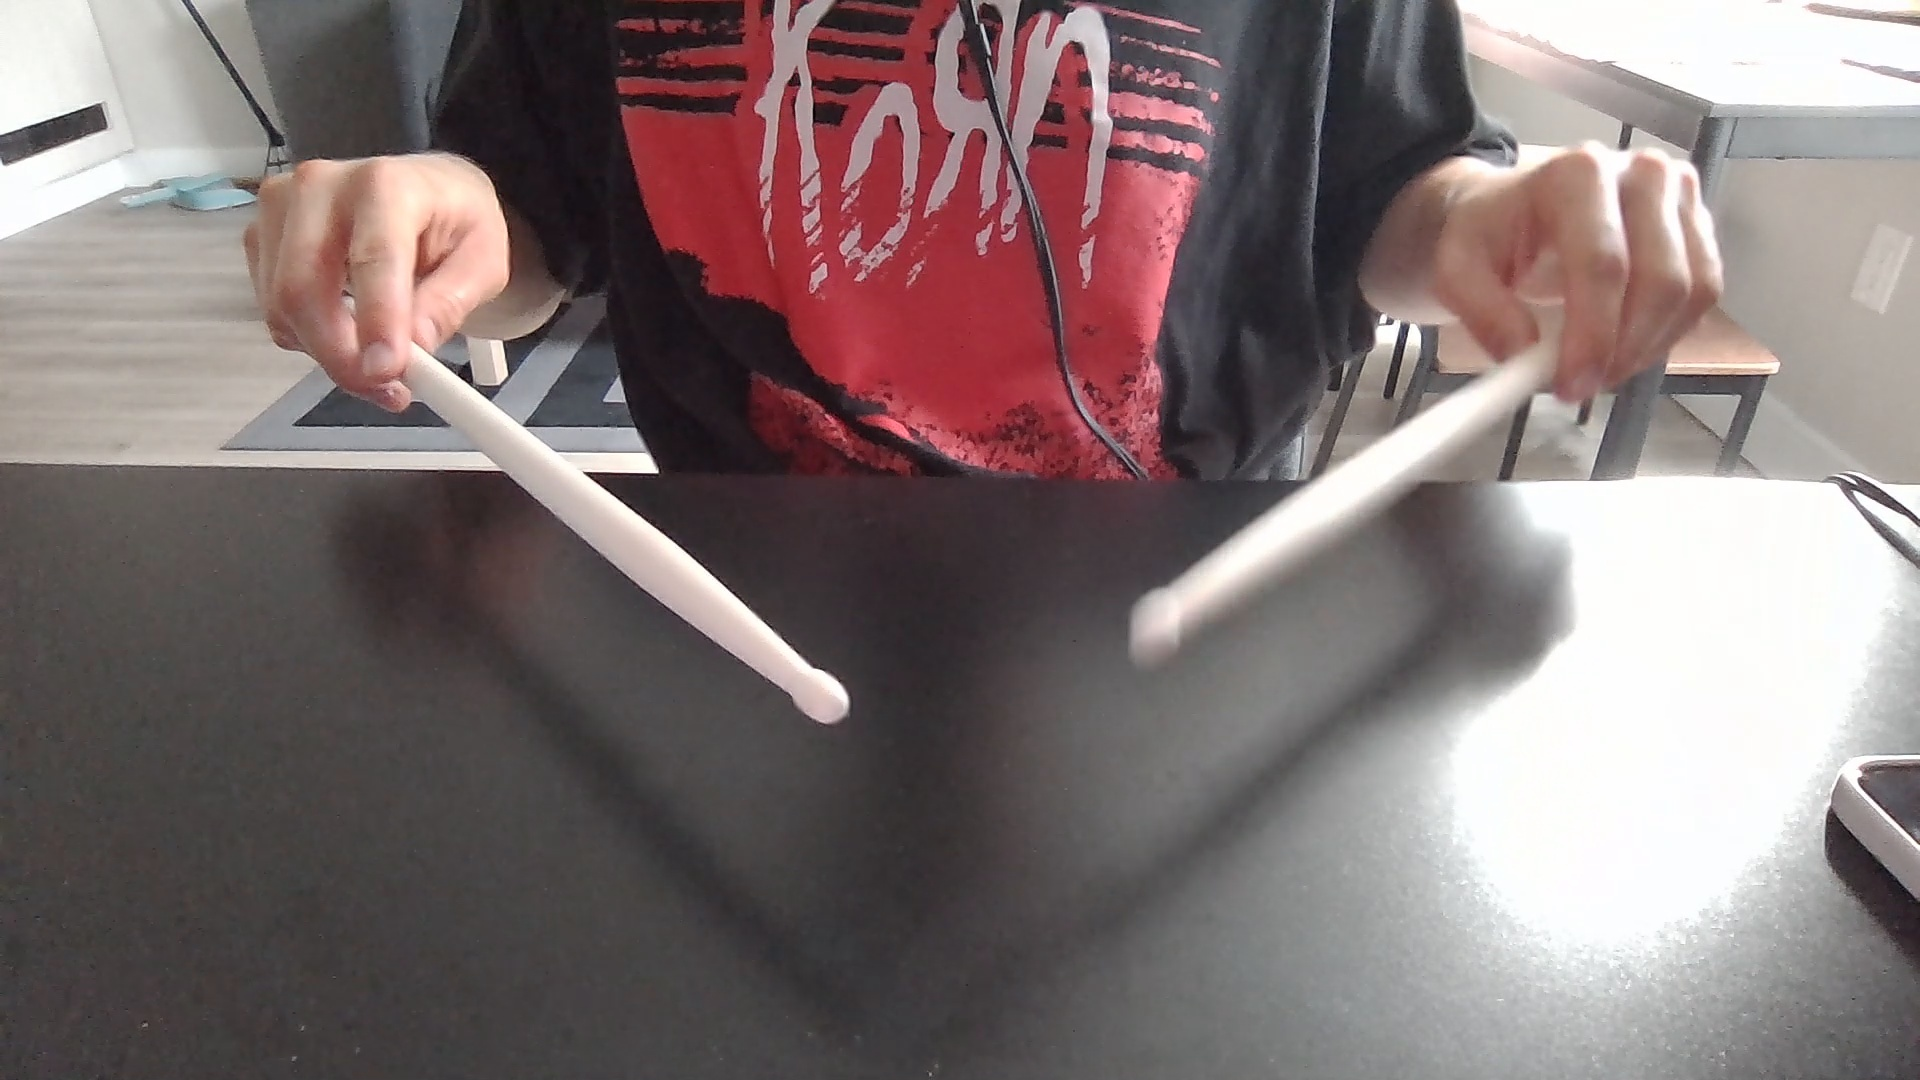left_stick: (785, 645, 862, 742)
right_stick: (1120, 572, 1203, 676)
